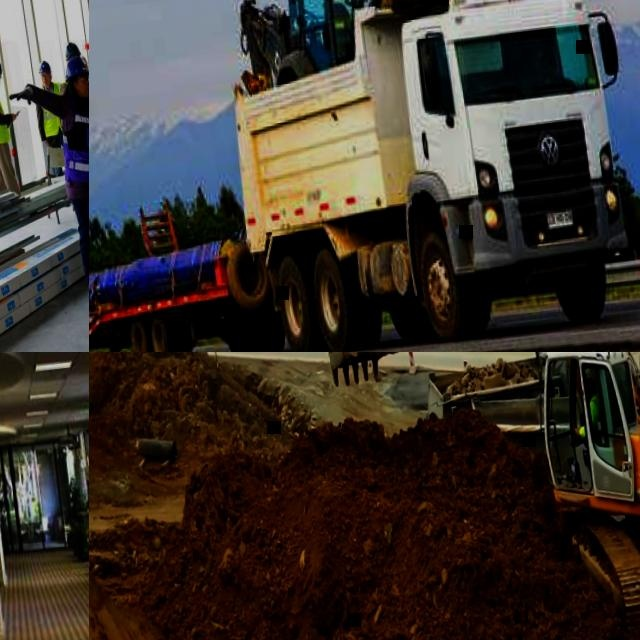Hardhat: (61, 53, 89, 81), (63, 40, 81, 61), (37, 59, 51, 73), (79, 53, 87, 64)
NO-Hardhat: (585, 376, 595, 387)
NO-Mask: (76, 84, 89, 97), (42, 78, 51, 87)
Person: (4, 51, 89, 311), (29, 56, 72, 178), (562, 374, 608, 482), (0, 56, 28, 200), (51, 35, 89, 135), (79, 49, 89, 169)
Safety Vest: (53, 88, 89, 184), (37, 80, 67, 134), (58, 77, 89, 123), (0, 81, 11, 146), (589, 394, 603, 428)
machinery: (220, 0, 640, 352), (300, 352, 640, 640), (218, 0, 560, 96)
